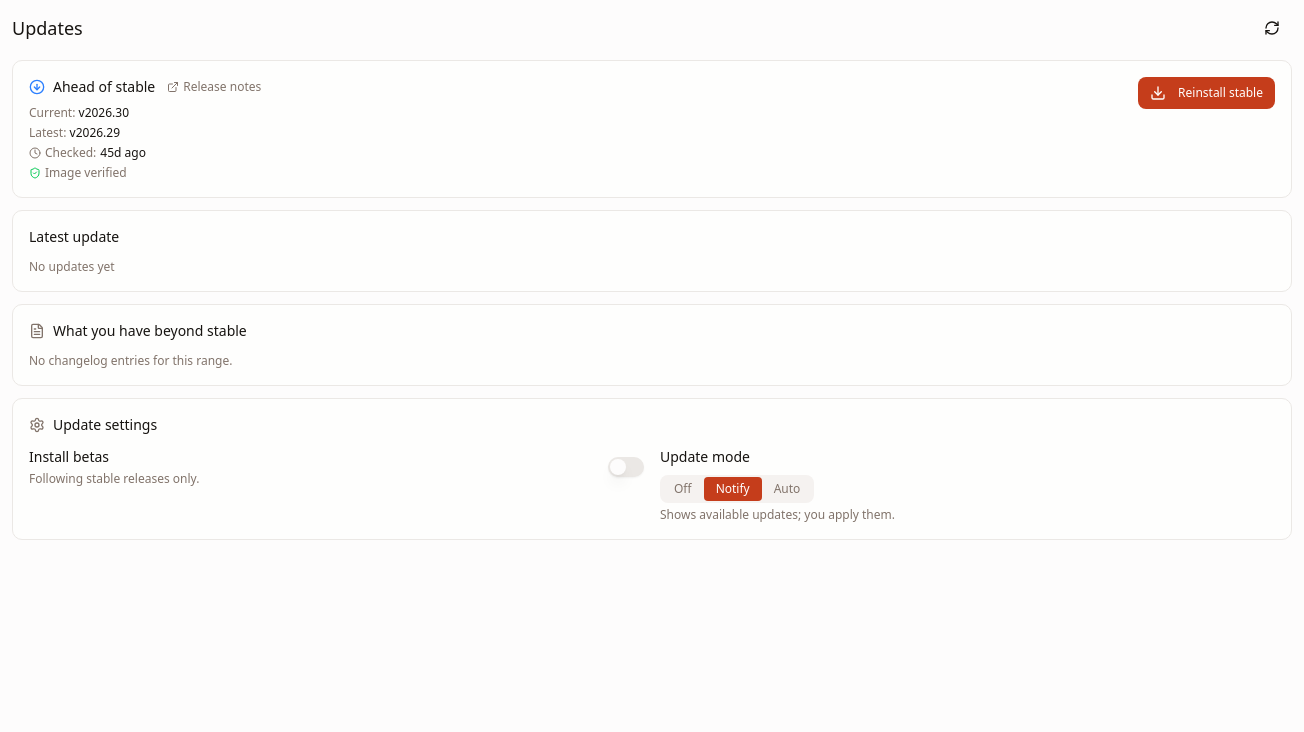
Test: UpdatesSection › version card › confirms that reinstalling stable does not revert migrations
Click the button "Reinstall stable": [1207, 93] box [1138,77,1275,109]
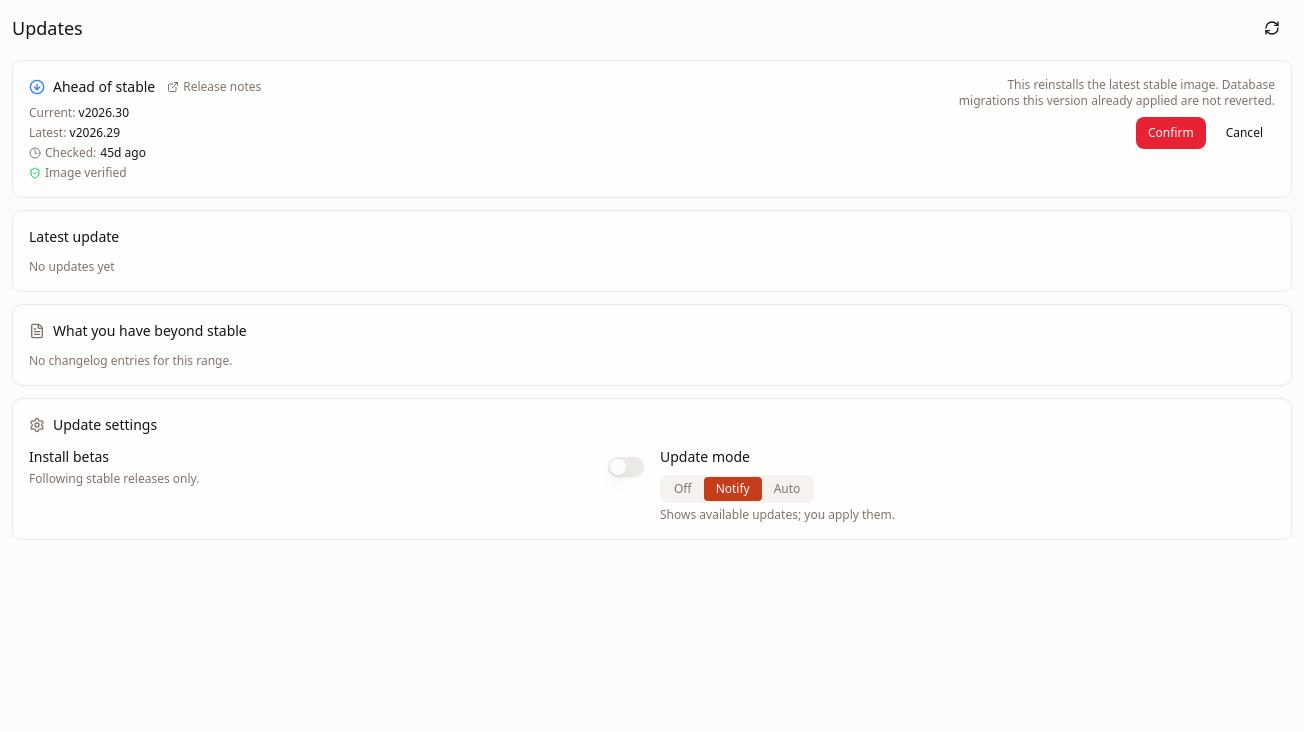
Result: the text "migrations this version already applied are not reverted" is shown at [959,76,1275,109]
